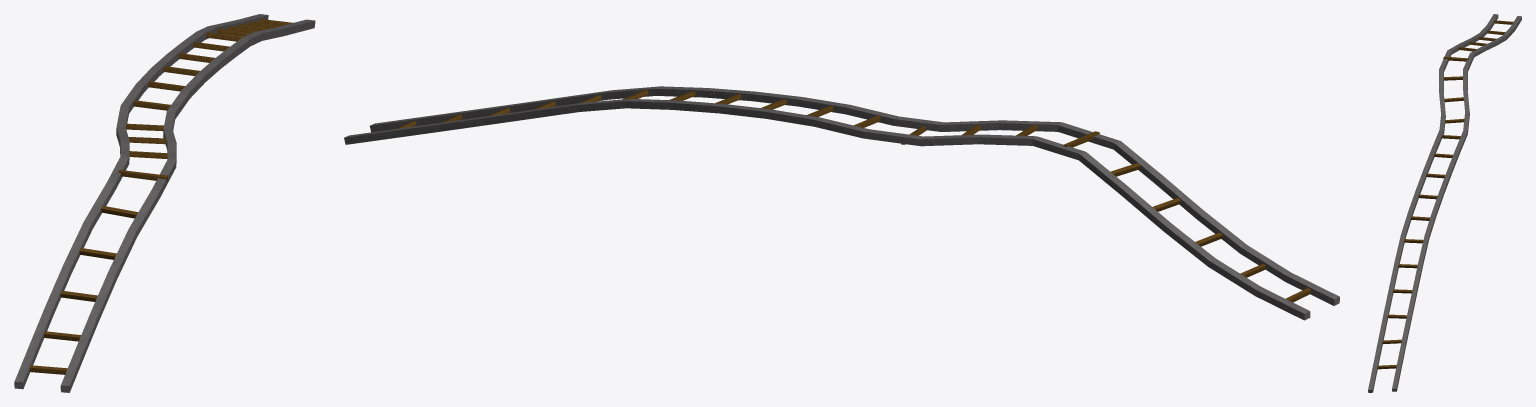
Rendered from Railway.fbx.
3 renders of one model, left to right at view 1: azimuth 90°, elevation 25°; view 2: azimuth 150°, elevation 25°; view 3: azimuth 270°, elevation 25°, orthographic. The views are drawn at different scales.
Parts seen in each view (by area): view 1: Cart Rail, Cart Rail.001; view 2: Cart Rail, Cart Rail.001; view 3: Cart Rail, Cart Rail.001.
Part boxes in pixels (left/top/right/bottom): Cart Rail: left=14, top=14, right=315, bottom=392; Cart Rail.001: left=30, top=19, right=293, bottom=374; Cart Rail: left=344, top=86, right=1339, bottom=320; Cart Rail.001: left=396, top=90, right=1311, bottom=302; Cart Rail: left=1368, top=14, right=1521, bottom=392; Cart Rail.001: left=1377, top=20, right=1513, bottom=369.
Bounding box in the file's own units: 188 × 43.23 × 40.48.
